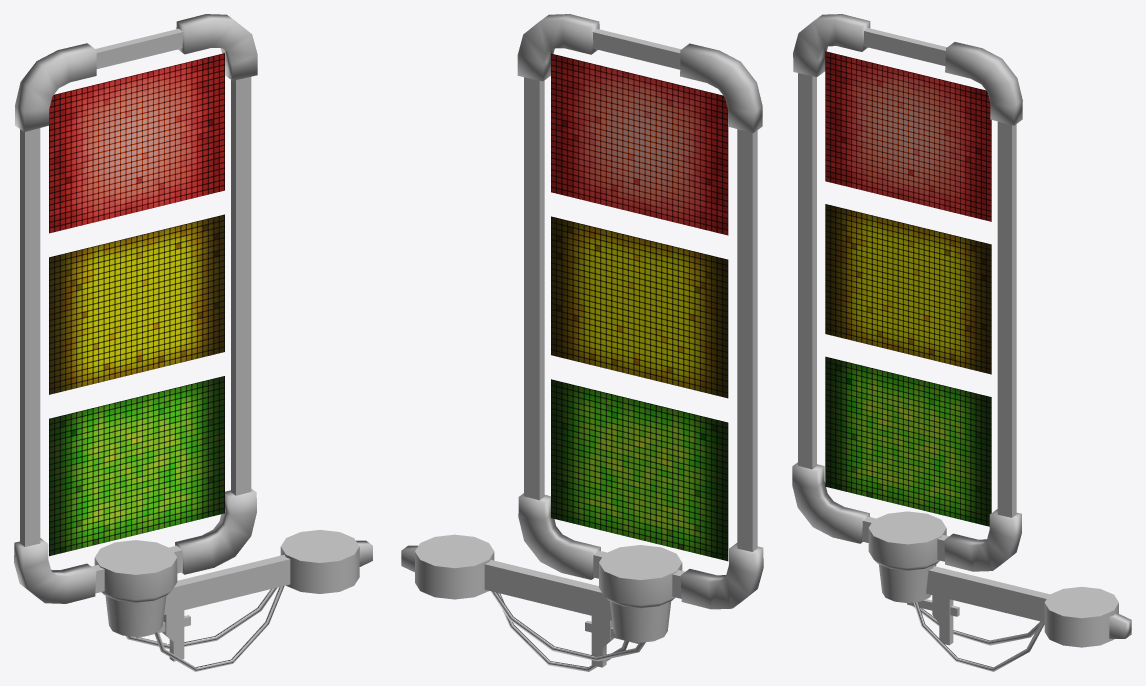
The model's file is Streetlight1.fbx.
3 renders of one model, left to right at view 1: azimuth 30°, elevation 25°; view 2: azimuth 150°, elevation 25°; view 3: azimuth 330°, elevation 25°, orthographic. The views are drawn at different scales.
Parts seen in each view (by area): view 1: polySurface281; view 2: polySurface281; view 3: polySurface281.
Boxes of the visible parts, x1,y1,x2,y2 form: polySurface281: (14,14,372,671); polySurface281: (401,14,763,671); polySurface281: (792,14,1131,671).
Bounding box in the file's own units: 0.4787 × 0.8461 × 0.0975.
